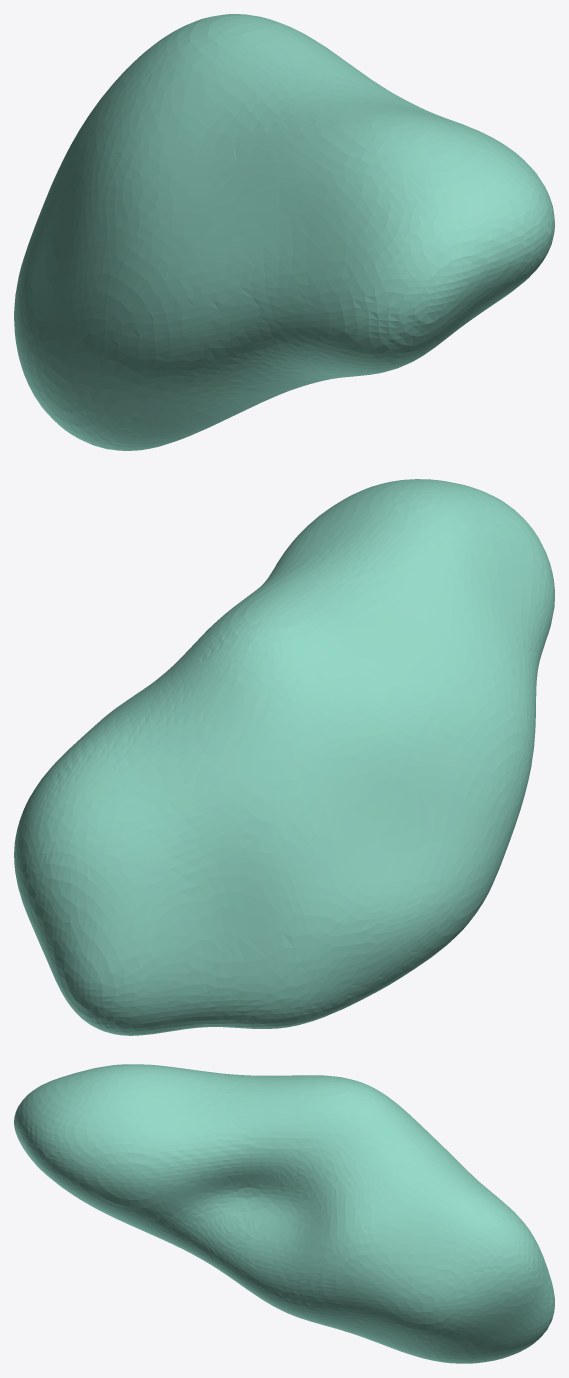
File: ours.glb
3 views of the same model, one above another, from view 1: azimuth 30°, elevation 25°; view 2: azimuth 150°, elevation 25°; view 3: azimuth 270°, elevation 25° (orthographic). The views are drawn at different scales.
Parts seen in each view (by area): view 1: world; view 2: world; view 3: world.
Boxes of the visible parts, x1=… form: world: x1=14, y1=14, x2=554, y2=450; world: x1=14, y1=479, x2=554, y2=1035; world: x1=14, y1=1064, x2=554, y2=1363.
Size of the model in its own units: 0.5166 by 0.4999 by 0.9035.
